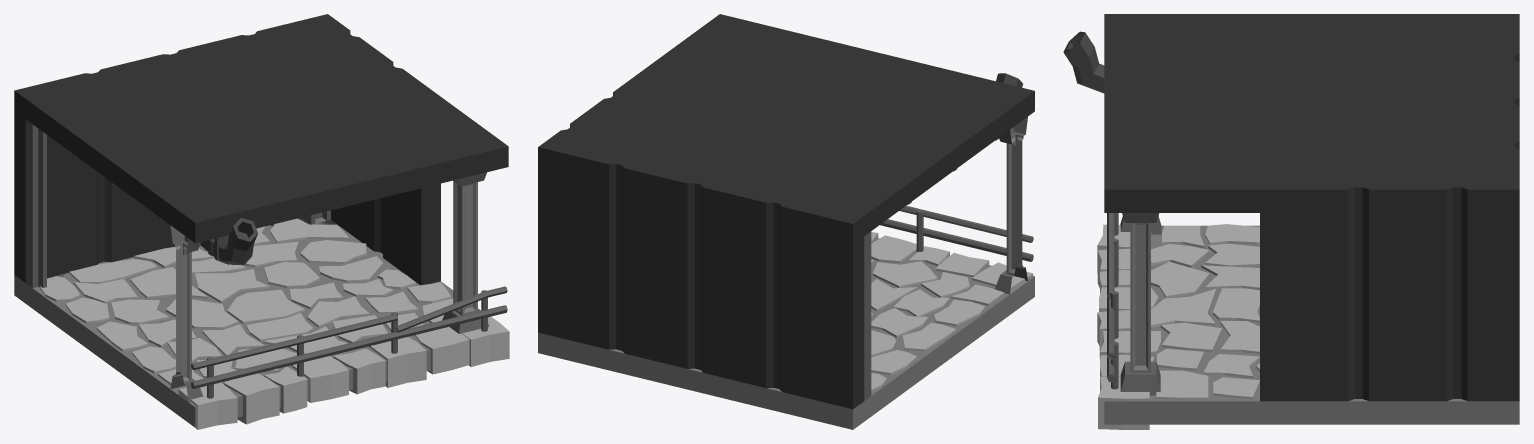
Rendered from CoalGenerator_Level_01_StraightRight.fbx.
3 views of the same model, side by side, from view 1: azimuth 30°, elevation 25°; view 2: azimuth 150°, elevation 25°; view 3: azimuth 270°, elevation 25° (orthographic). The views are drawn at different scales.
Parts seen in each view (by area): view 1: CoalGenerator_Level_01_StraightRight; view 2: CoalGenerator_Level_01_StraightRight; view 3: CoalGenerator_Level_01_StraightRight.
Boxes of the visible parts, left/top/right/bottom form: CoalGenerator_Level_01_StraightRight: left=14, top=14, right=509, bottom=429; CoalGenerator_Level_01_StraightRight: left=538, top=14, right=1034, bottom=429; CoalGenerator_Level_01_StraightRight: left=1063, top=14, right=1519, bottom=429.
Bounding box in the file's own units: 800 × 521 × 879.
